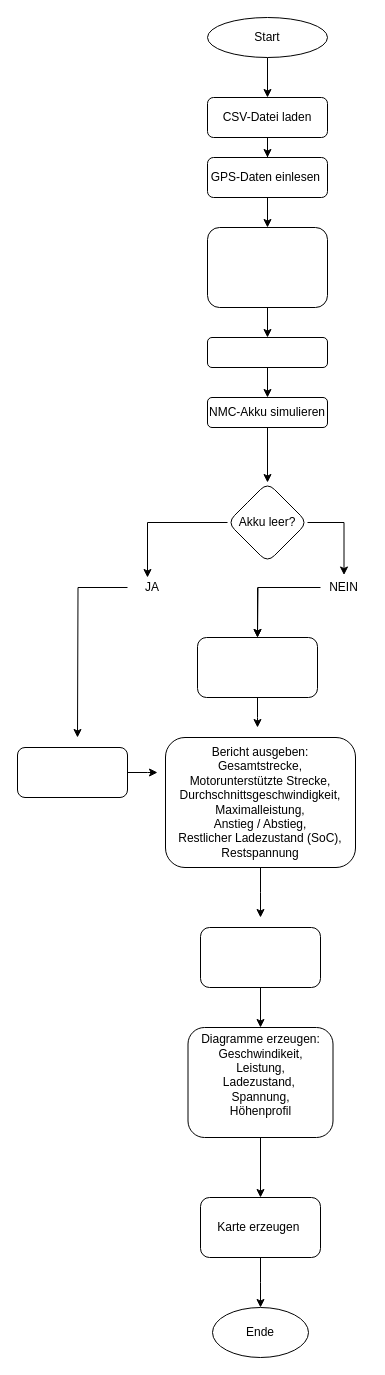
This 385x1375 diagram has some shape labels left out. The box of each missing label's shape, as (x1, y1, x2, y2) in pixels:
Berechnen: Geschwindikeit, Beschleunigung, Leistung, Motorstrom.: (206, 226, 328, 308)
Himmelsrichtung bestimmen: (196, 636, 318, 698)
LiPo-Akku simulieren: (206, 336, 328, 368)
Paramaterstudie durchführen: (200, 926, 320, 988)
Warnung ausgeben (Akku leer): (16, 746, 128, 798)
